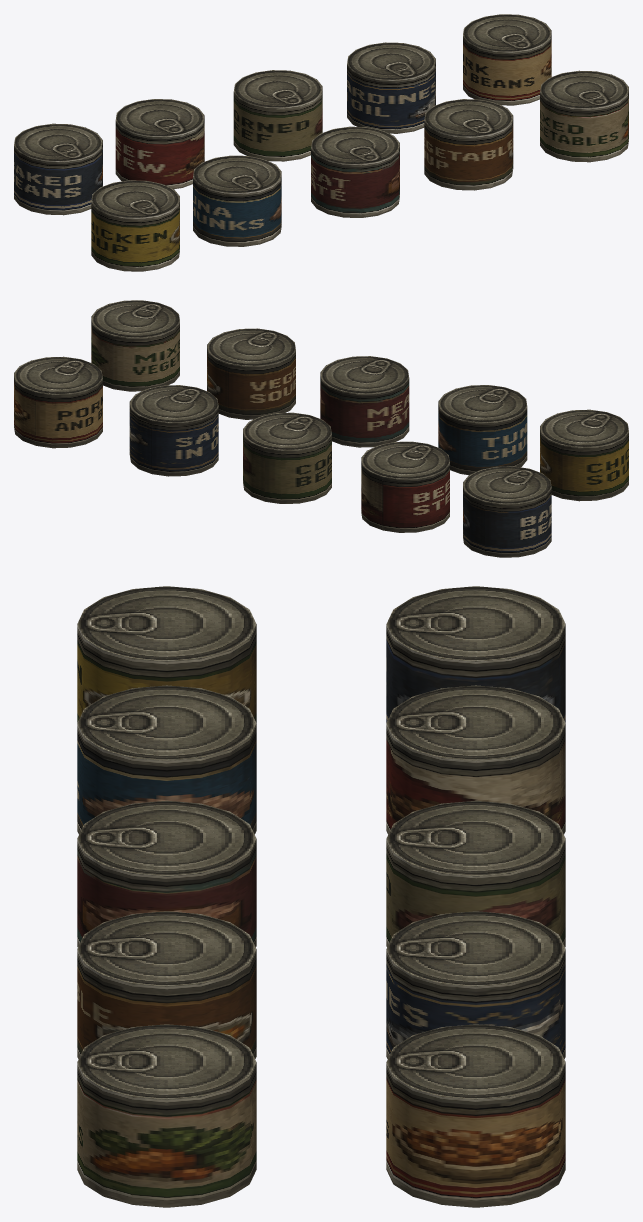
File: canned_food_psx.glb
3 renders of one model, top to bottom at view 1: azimuth 30°, elevation 25°; view 2: azimuth 150°, elevation 25°; view 3: azimuth 270°, elevation 25°, orthographic. The views are drawn at different scales.
Visible parts, largest first — view 1: Can 9, Can 6, Can 7, Can 10, Can 8, Can 3, Can 1, Can 5, Can 4, Can 2; view 2: Can 4, Can 1, Can 2, Can 5, Can 3, Can 8, Can 6, Can 10, Can 9, Can 7; view 3: Can 10, Can 5, Can 2, Can 7, Can 4, Can 9, Can 3, Can 8, Can 1, Can 6.
Part boxes in pixels (left/top/right/bottom): Can 9: left=424, top=99, right=513, bottom=190; Can 6: left=91, top=180, right=179, bottom=271; Can 7: left=193, top=155, right=281, bottom=246; Can 10: left=540, top=70, right=628, bottom=162; Can 8: left=311, top=126, right=399, bottom=217; Can 3: left=233, top=70, right=322, bottom=161; Can 1: left=14, top=123, right=102, bottom=215; Can 5: left=463, top=14, right=551, bottom=105; Can 4: left=347, top=42, right=435, bottom=133; Can 2: left=115, top=99, right=204, bottom=188; Can 4: left=129, top=385, right=218, bottom=476; Can 1: left=463, top=466, right=551, bottom=557; Can 2: left=361, top=441, right=449, bottom=532; Can 5: left=14, top=356, right=102, bottom=448; Can 3: left=243, top=412, right=331, bottom=503; Can 8: left=320, top=356, right=409, bottom=447; Can 6: left=540, top=409, right=628, bottom=501; Can 10: left=91, top=300, right=179, bottom=391; Can 9: left=207, top=328, right=295, bottom=419; Can 7: left=438, top=385, right=527, bottom=474; Can 10: left=77, top=1024, right=256, bottom=1207; Can 5: left=386, top=1024, right=565, bottom=1207; Can 2: left=386, top=685, right=565, bottom=834; Can 7: left=77, top=685, right=256, bottom=834; Can 4: left=386, top=911, right=565, bottom=1058; Can 9: left=77, top=911, right=256, bottom=1058; Can 3: left=386, top=800, right=565, bottom=947; Can 8: left=77, top=800, right=256, bottom=947; Can 1: left=386, top=586, right=565, bottom=722; Can 6: left=77, top=586, right=256, bottom=722.
Bounding box in the file's own units: 5.85 × 0.5729 × 2.35.
1 material, 1 textured.
